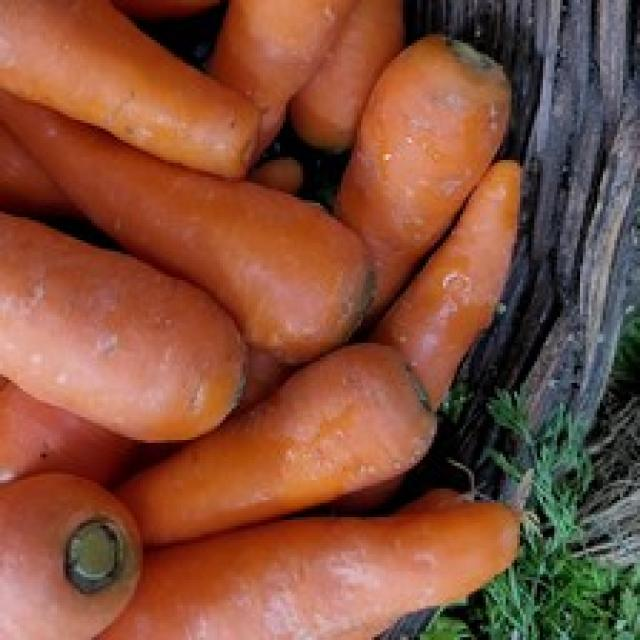Fresh_Carrot: (0, 105, 382, 349), (108, 343, 433, 544), (74, 502, 524, 640), (0, 0, 254, 175)
